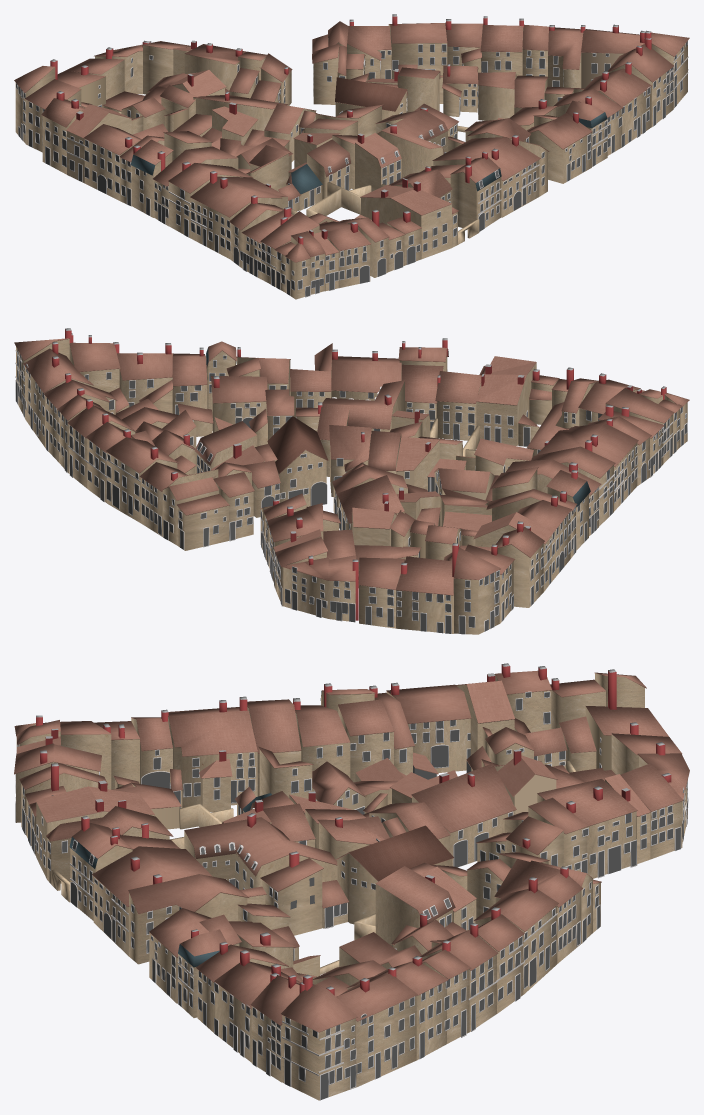
Rendered from ilot23combine.fbx.
3 renders of one model, top to bottom at view 1: azimuth 30°, elevation 25°; view 2: azimuth 150°, elevation 25°; view 3: azimuth 270°, elevation 25°, orthographic. The views are drawn at different scales.
Parts seen in each view (by area): view 1: _ILOT23BAT118, _ILOT23BAT53, _ILOT23BAT36, _ILOT23BAT6, _ILOT23BAT37, _ILOT23BAT22, _ILOT23BAT19, _ILOT23BAT45, _ILOT23BAT70, _ILOT23BAT12, _ILOT23BAT55, _ILOT23BAT82 (+66 smaller); view 2: _ILOT23BAT93, _ILOT23BAT91, _ILOT23BAT53, _ILOT23BAT4, _ILOT23BAT90, _ILOT23BAT118, _ILOT23BAT45, _ILOT23BAT6, _ILOT23BAT58, _ILOT23BAT36, _ILOT23BAT92, _ILOT23BAT82 (+69 smaller); view 3: _ILOT23BAT1, _ILOT23BAT118, _ILOT23BAT6, _ILOT23BAT82, _ILOT23BAT33, _ILOT23BAT86, _ILOT23BAT36, _ILOT23BAT10, _ILOT23BAT70, _ILOT23BAT4, _ILOT23BAT45, _ILOT23BAT13 (+62 smaller).
Boxes of the visible parts, x1,y1,x2,y2 form: _ILOT23BAT118: [190, 171, 287, 259]; _ILOT23BAT53: [360, 178, 451, 259]; _ILOT23BAT36: [432, 135, 540, 217]; _ILOT23BAT6: [375, 109, 448, 177]; _ILOT23BAT37: [450, 151, 501, 231]; _ILOT23BAT22: [527, 112, 592, 183]; _ILOT23BAT19: [582, 62, 651, 147]; _ILOT23BAT45: [388, 14, 447, 78]; _ILOT23BAT70: [84, 124, 141, 200]; _ILOT23BAT12: [607, 38, 673, 127]; _ILOT23BAT55: [319, 221, 370, 288]; _ILOT23BAT82: [581, 24, 645, 88]; _ILOT23BAT93: [281, 555, 358, 622]; _ILOT23BAT91: [395, 543, 458, 633]; _ILOT23BAT53: [476, 356, 536, 445]; _ILOT23BAT4: [267, 416, 328, 506]; _ILOT23BAT90: [453, 547, 500, 634]; _ILOT23BAT118: [536, 423, 638, 511]; _ILOT23BAT45: [105, 437, 178, 523]; _ILOT23BAT6: [317, 380, 404, 476]; _ILOT23BAT58: [435, 365, 485, 440]; _ILOT23BAT36: [331, 349, 401, 400]; _ILOT23BAT92: [359, 557, 404, 628]; _ILOT23BAT82: [23, 342, 93, 446]; _ILOT23BAT1: [280, 975, 361, 1100]; _ILOT23BAT118: [168, 696, 257, 807]; _ILOT23BAT6: [184, 813, 337, 889]; _ILOT23BAT82: [326, 973, 417, 1087]; _ILOT23BAT33: [411, 763, 516, 867]; _ILOT23BAT86: [537, 779, 637, 878]; _ILOT23BAT36: [92, 846, 212, 956]; _ILOT23BAT10: [128, 874, 249, 964]; _ILOT23BAT70: [386, 682, 471, 772]; _ILOT23BAT4: [336, 825, 453, 924]; _ILOT23BAT45: [474, 877, 558, 994]; _ILOT23BAT13: [375, 866, 455, 946].
Size of the model in its own units: 24.78 by 3.25 by 19.76.
